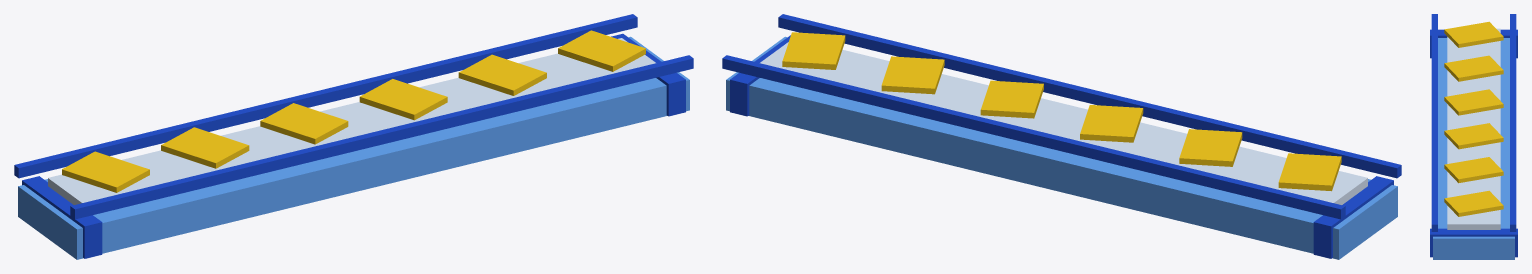
File: toy_narrow_plank_s6_stripes.glb
3 renders of one model, left to right at view 1: azimuth 30°, elevation 25°; view 2: azimuth 150°, elevation 25°; view 3: azimuth 270°, elevation 25°, orthographic. The views are drawn at different scales.
Parts seen in each view (by area): view 1: solid_1, solid_2, solid_4, solid_3, solid_9, solid_7, solid_6, solid_8, solid_10, solid_5, solid_11, solid_12; view 2: solid_1, solid_2, solid_3, solid_4, solid_8, solid_9, solid_6, solid_5, solid_7, solid_10, solid_11, solid_12; view 3: solid_1, solid_2, solid_3, solid_4, solid_6, solid_7, solid_8, solid_5, solid_10, solid_9, solid_12, solid_11.
Part boxes in pixels (x1=…): solid_1: x1=18, y1=36, x2=689, y2=259; solid_2: x1=48, y1=38, x2=655, y2=204; solid_4: x1=70, y1=55, x2=693, y2=219; solid_3: x1=14, y1=14, x2=637, y2=178; solid_9: x1=458, y1=54, x2=546, y2=95; solid_7: x1=260, y1=103, x2=348, y2=144; solid_6: x1=161, y1=127, x2=249, y2=168; solid_8: x1=359, y1=79, x2=447, y2=120; solid_10: x1=558, y1=30, x2=645, y2=71; solid_5: x1=62, y1=151, x2=149, y2=192; solid_11: x1=22, y1=176, x2=102, y2=258; solid_12: x1=611, y1=33, x2=685, y2=116; solid_1: x1=726, y1=36, x2=1397, y2=259; solid_2: x1=760, y1=42, x2=1367, y2=204; solid_3: x1=722, y1=55, x2=1345, y2=219; solid_4: x1=778, y1=14, x2=1401, y2=178; solid_8: x1=980, y1=80, x2=1043, y2=118; solid_9: x1=881, y1=56, x2=944, y2=94; solid_6: x1=1179, y1=129, x2=1242, y2=166; solid_5: x1=1278, y1=153, x2=1341, y2=191; solid_7: x1=1080, y1=105, x2=1143, y2=142; solid_10: x1=782, y1=32, x2=845, y2=69; solid_11: x1=1313, y1=176, x2=1393, y2=258; solid_12: x1=730, y1=35, x2=790, y2=116; solid_1: x1=1433, y1=38, x2=1514, y2=259; solid_2: x1=1447, y1=28, x2=1500, y2=229; solid_3: x1=1510, y1=14, x2=1516, y2=231; solid_4: x1=1431, y1=14, x2=1437, y2=231; solid_6: x1=1444, y1=55, x2=1503, y2=81; solid_7: x1=1444, y1=89, x2=1503, y2=115; solid_8: x1=1444, y1=123, x2=1503, y2=149; solid_5: x1=1444, y1=21, x2=1503, y2=47; solid_10: x1=1444, y1=190, x2=1503, y2=216; solid_9: x1=1444, y1=157, x2=1503, y2=183; solid_12: x1=1430, y1=228, x2=1517, y2=257; solid_11: x1=1430, y1=29, x2=1517, y2=58.
Bounding box in the file's own units: 6.36 × 0.5375 × 1.12.
